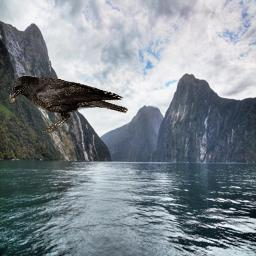Crow: (7, 75, 128, 133)
